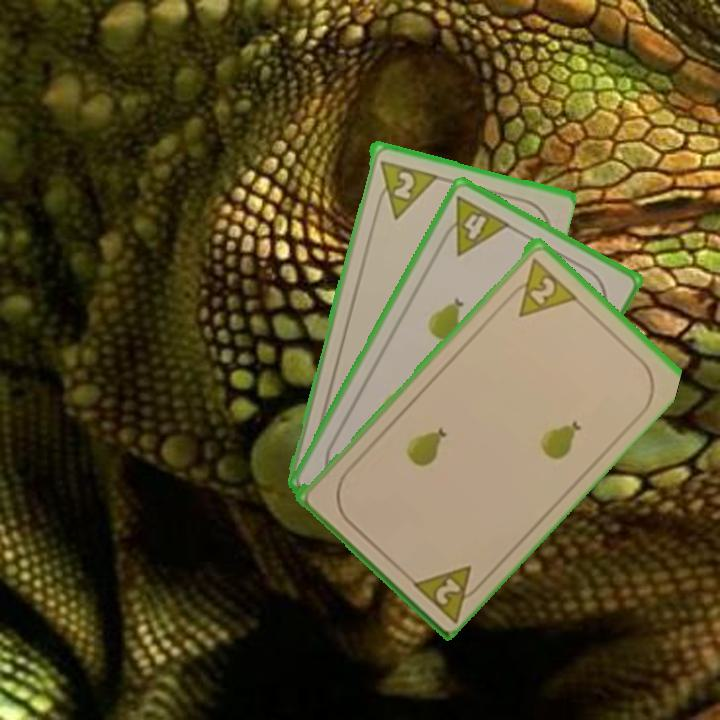2p: (502, 252, 579, 320), (406, 561, 489, 624), (370, 156, 438, 221)
4p: (435, 191, 513, 259)
